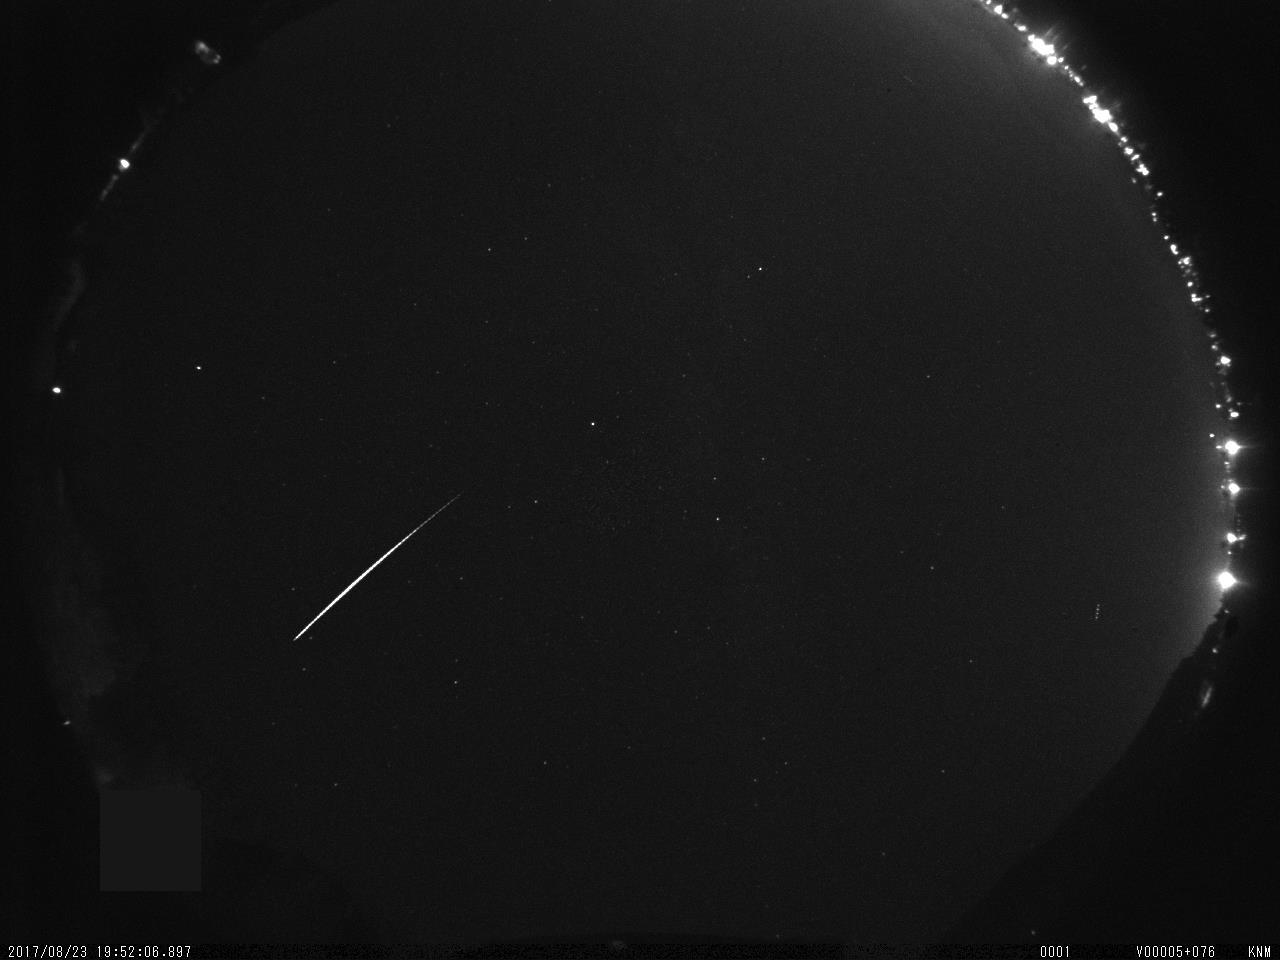meteor: (268, 472, 491, 668)
